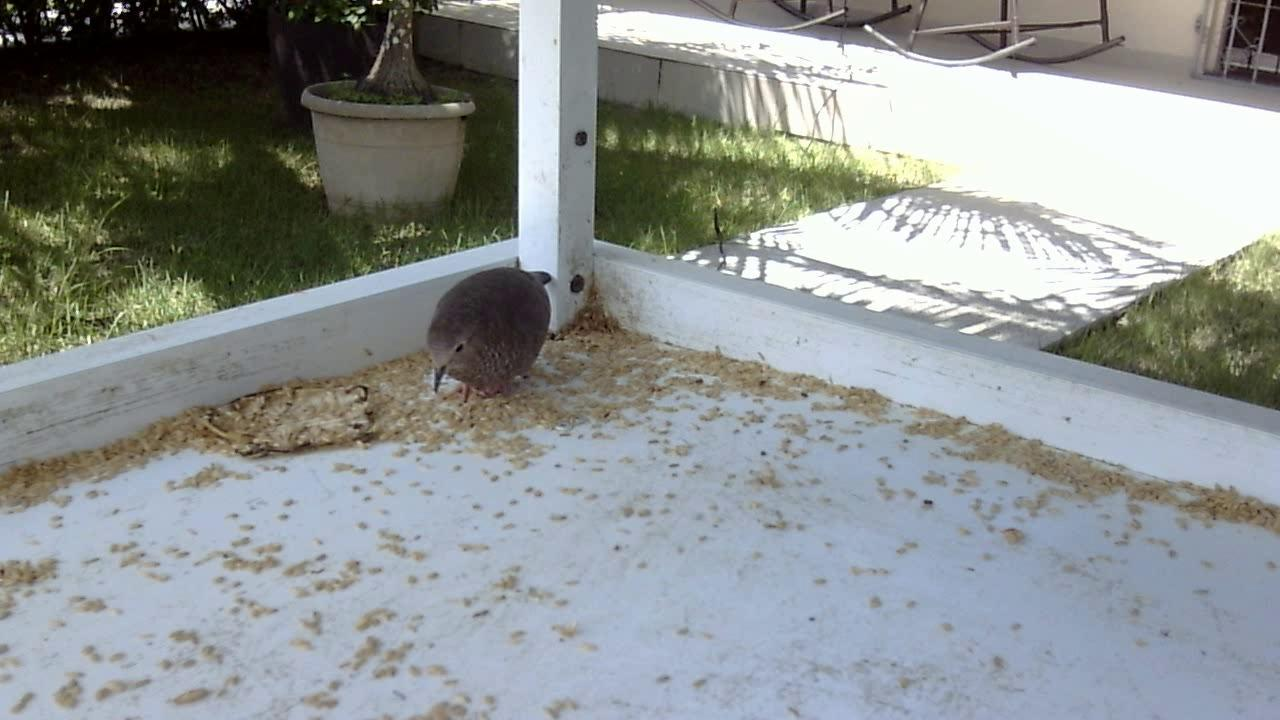rolinha: (414, 263, 561, 412)
